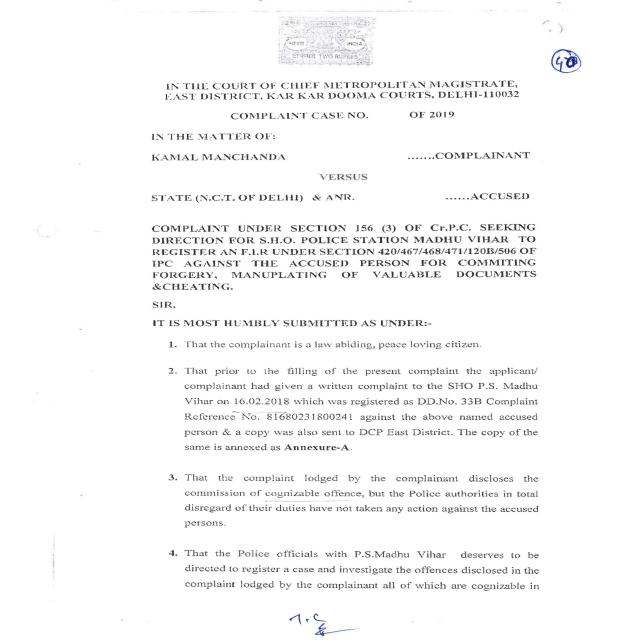page-number: (523, 40, 640, 100)
